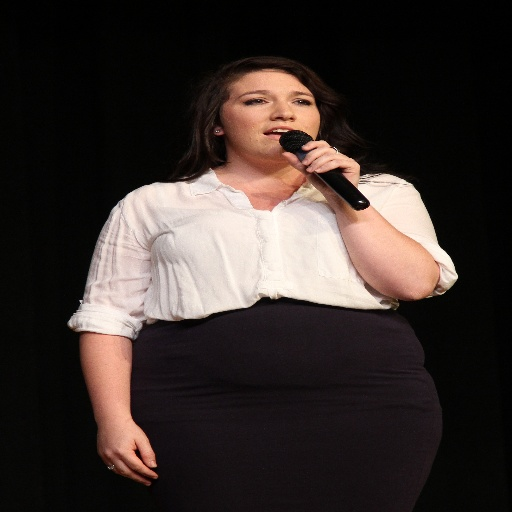hand: (93, 387, 160, 488), (279, 137, 363, 198)
